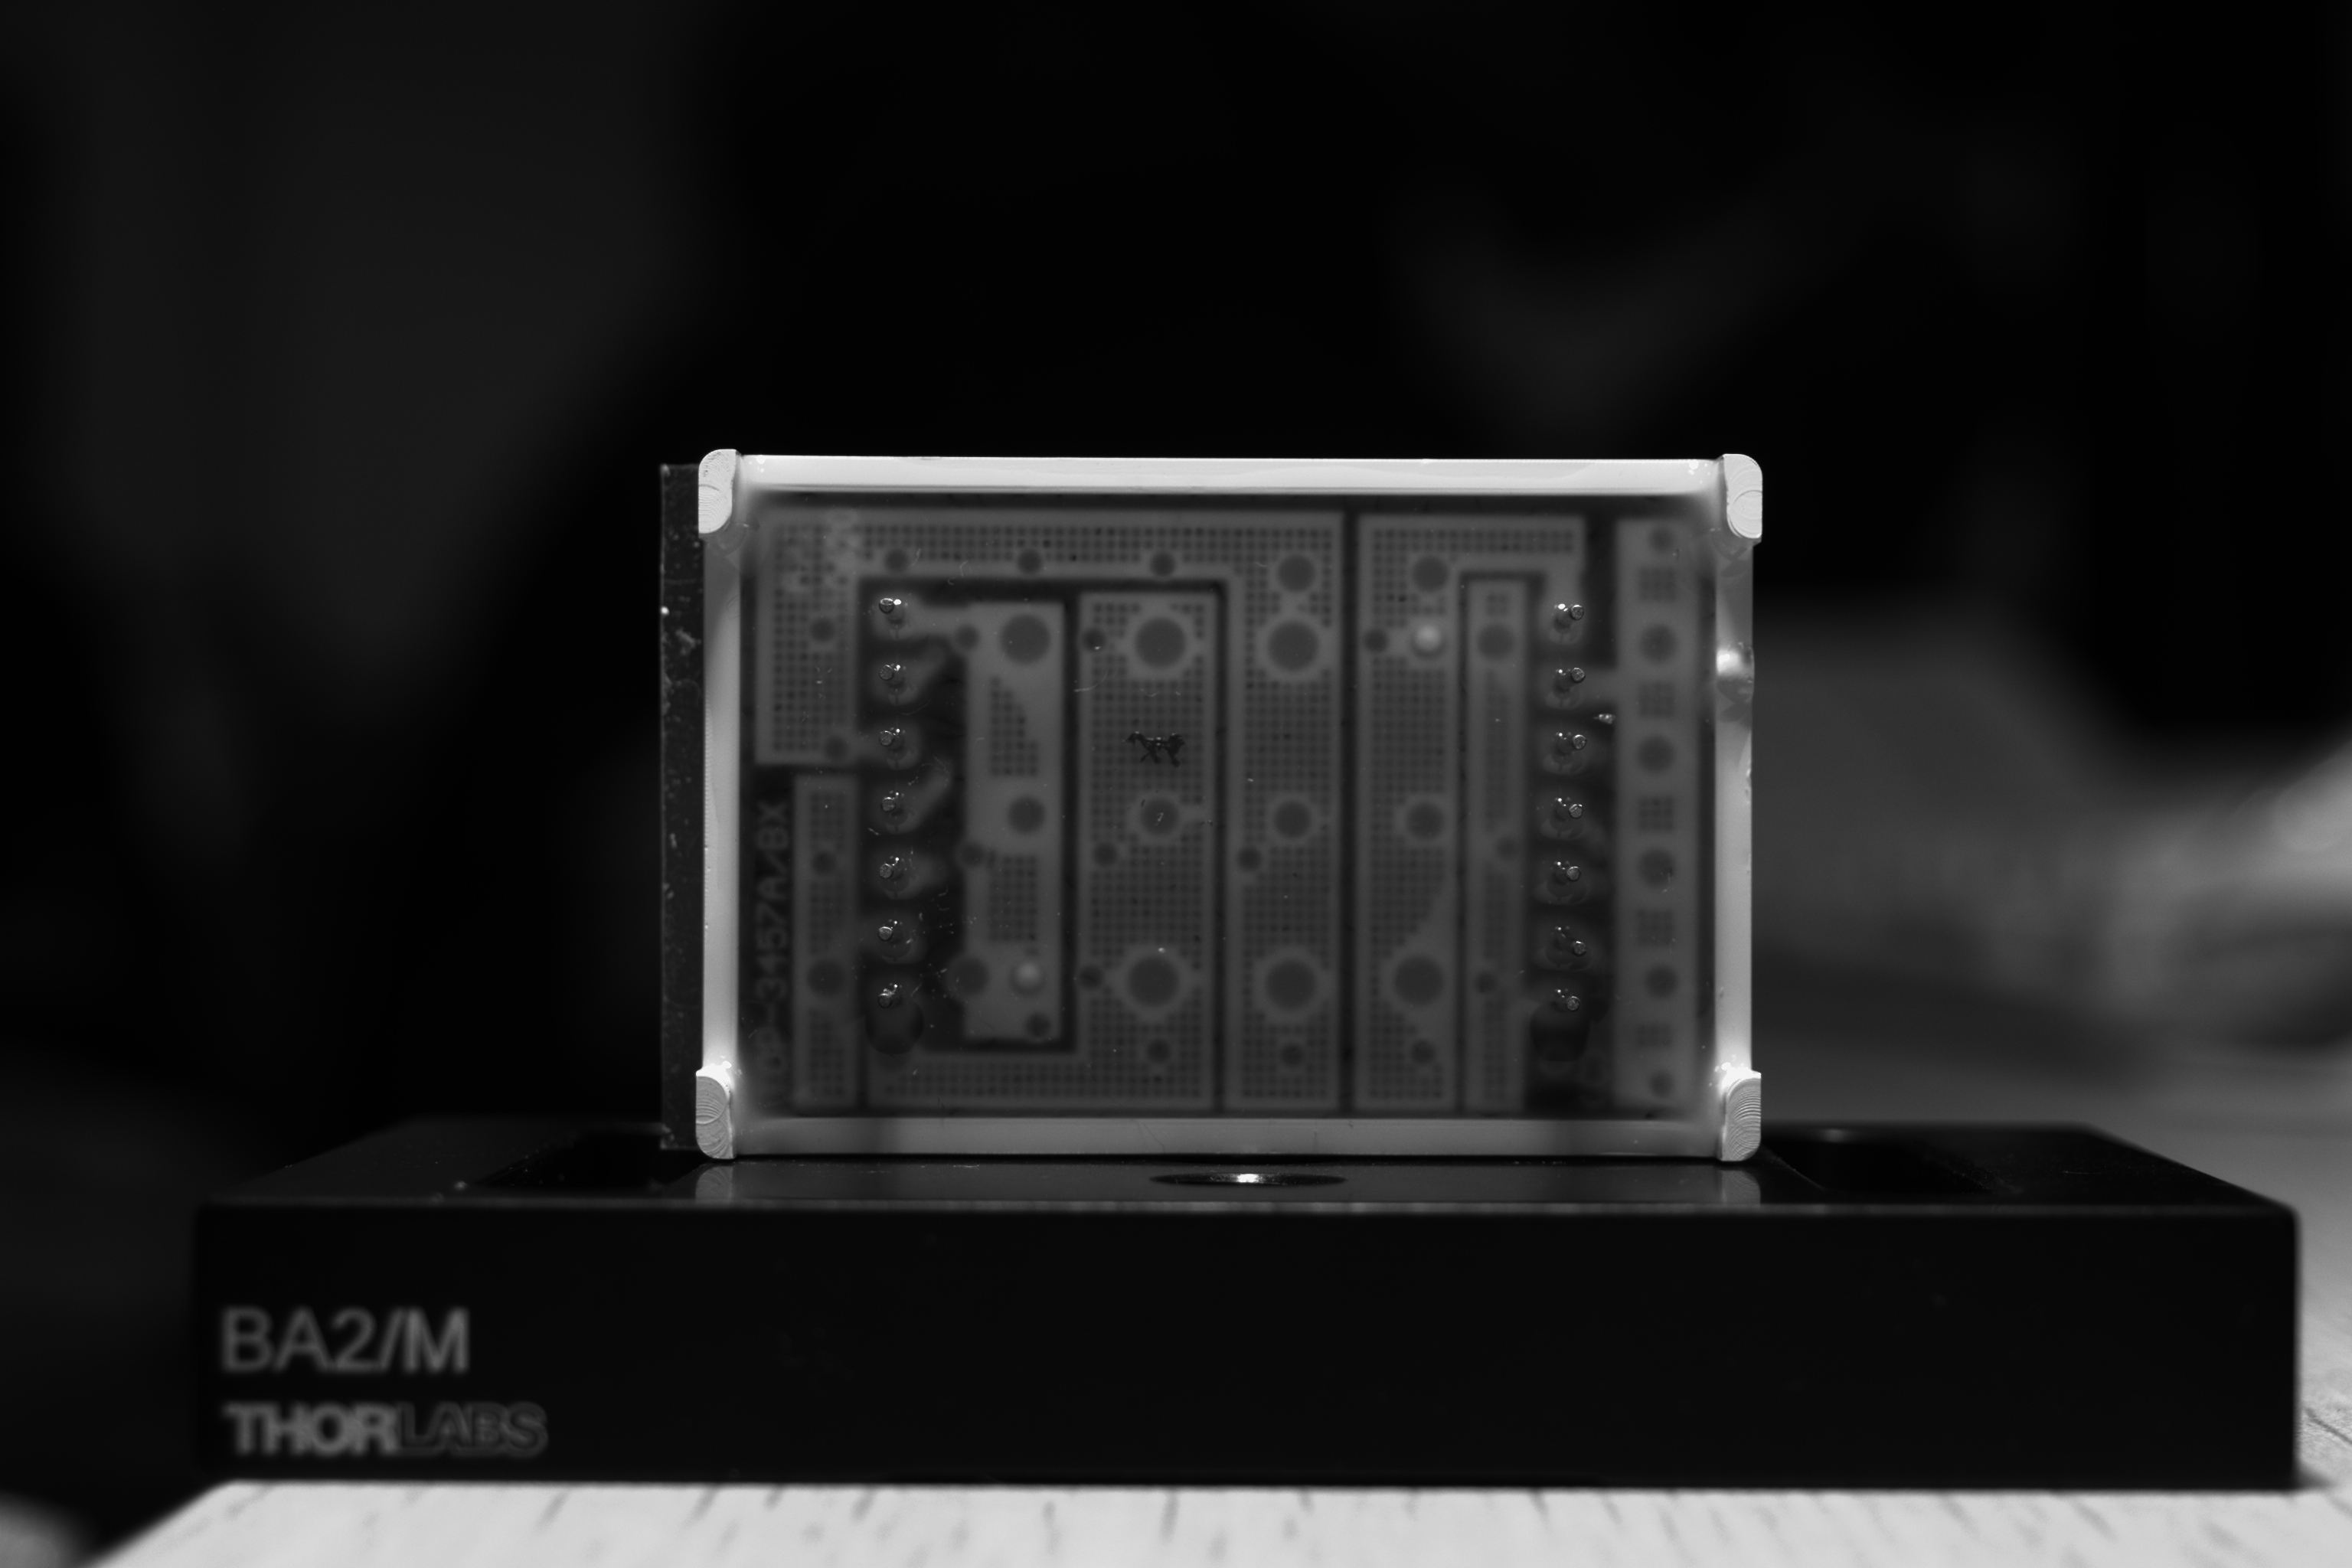pin_inclined_top: (1540, 922, 1598, 969)
